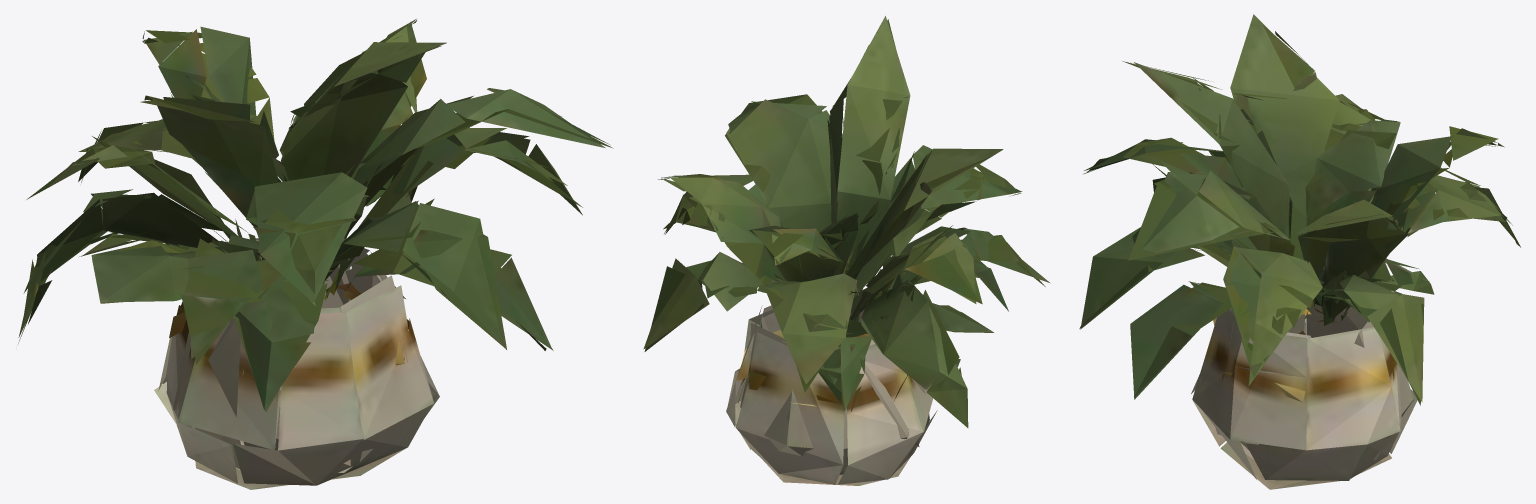
Rendered from plante-a-bas.glb.
The picture shows the model from 3 angles, left to right: view 1: azimuth 30°, elevation 25°; view 2: azimuth 150°, elevation 25°; view 3: azimuth 270°, elevation 25°; orthographic projection. The views are drawn at different scales.
Parts seen in each view (by area): view 1: plante-a-bas; view 2: plante-a-bas; view 3: plante-a-bas.
Part boxes in pixels (box(x1,y1,x2,y2)): plante-a-bas: box(18, 19, 613, 489); plante-a-bas: box(643, 16, 1050, 485); plante-a-bas: box(1079, 14, 1520, 489).
Size of the model in its own units: 1.06 by 1 by 0.9761.
1 material, 1 textured.
